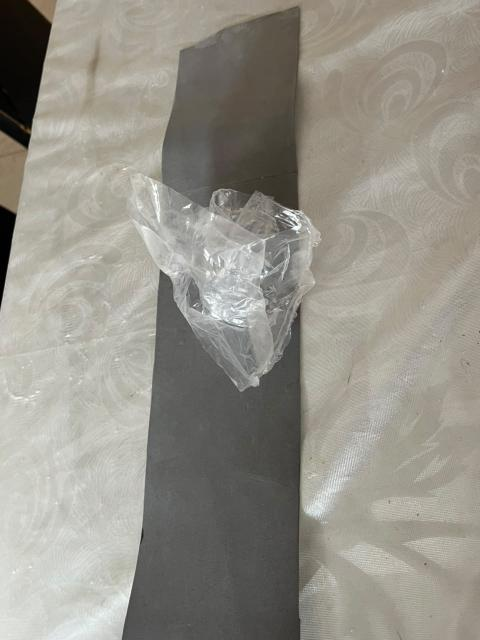LDPE: (116, 148, 359, 426)
